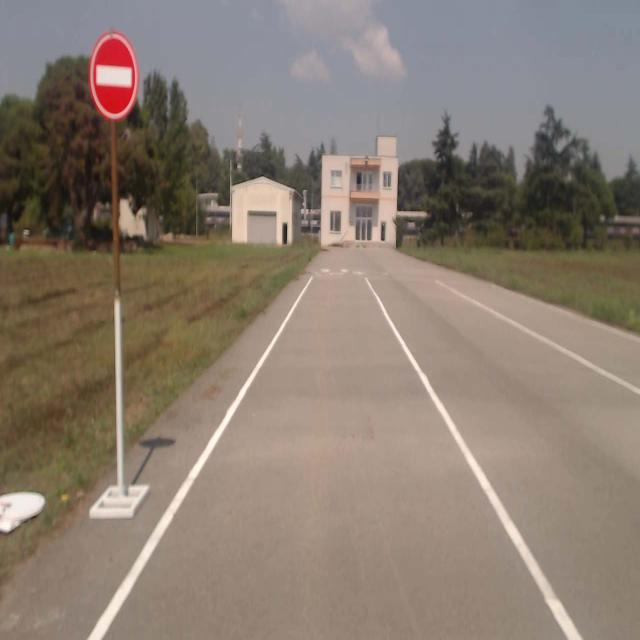girisyok: (91, 34, 137, 116)
